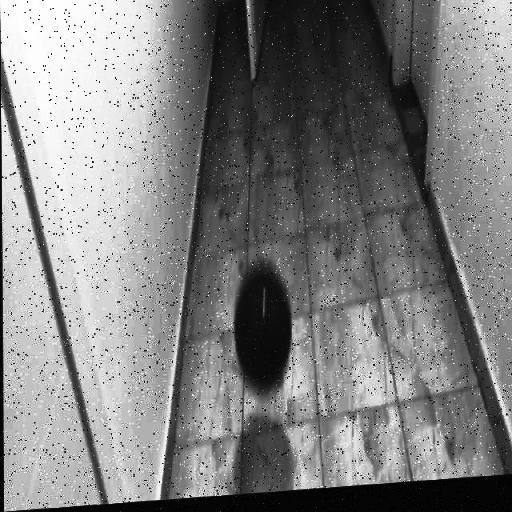balloon: (230, 263, 295, 400)
